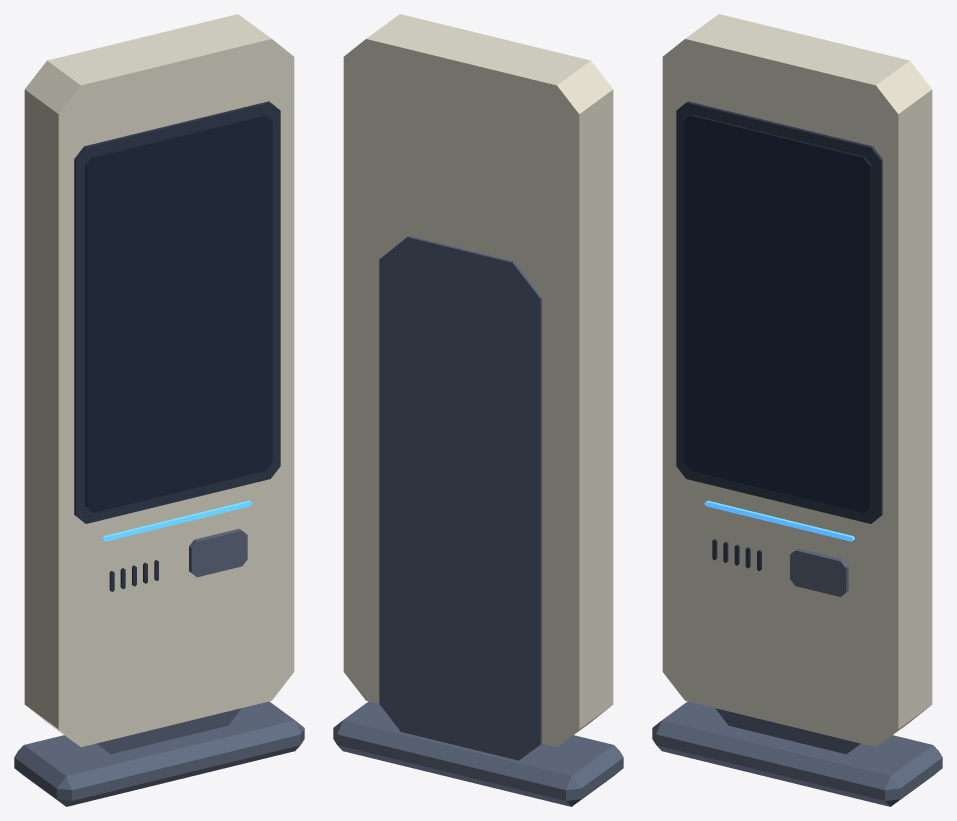
Rendered from bw_info_totem.glb.
3 views of the same model, side by side, from view 1: azimuth 30°, elevation 25°; view 2: azimuth 150°, elevation 25°; view 3: azimuth 330°, elevation 25° (orthographic).
Visible parts, largest first — view 1: monolith, blank_display, reader, screen_recess, pedestal, status_line; view 2: monolith, pedestal, reader; view 3: monolith, blank_display, reader, screen_recess, pedestal, status_line.
Boxes of the visible parts, box(x1,y1,x2,y2) form: monolith: box(24, 14, 294, 747); blank_display: box(85, 114, 272, 512); reader: box(14, 528, 304, 806); screen_recess: box(74, 101, 280, 591); pedestal: box(96, 708, 241, 754); status_line: box(102, 500, 252, 541); monolith: box(343, 14, 613, 747); pedestal: box(379, 236, 541, 760); reader: box(333, 701, 623, 806); monolith: box(662, 14, 932, 747); blank_display: box(684, 114, 871, 512); reader: box(652, 548, 942, 806); screen_recess: box(676, 101, 882, 570); pedestal: box(715, 708, 860, 754); status_line: box(704, 500, 854, 541).
Size of the model in its own units: 0.8 by 2.2 by 0.3.
